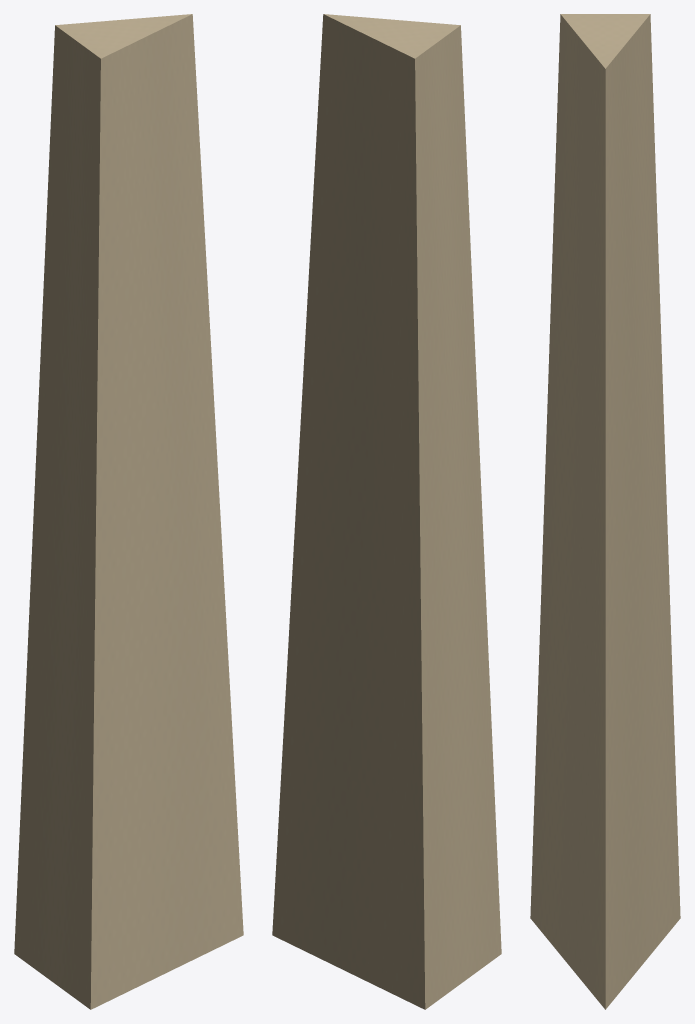
File: atlas100-s041-a05.lod2.glb
The picture shows the model from 3 angles, left to right: view 1: azimuth 30°, elevation 25°; view 2: azimuth 150°, elevation 25°; view 3: azimuth 270°, elevation 25°; orthographic projection.
Visible parts, largest first — view 1: atlas100-s041-a05:part-000; view 2: atlas100-s041-a05:part-000; view 3: atlas100-s041-a05:part-000.
Part boxes in pixels (x1,y1,x2,y2): atlas100-s041-a05:part-000: [14, 14, 243, 1009]; atlas100-s041-a05:part-000: [272, 14, 501, 1009]; atlas100-s041-a05:part-000: [530, 14, 680, 1009].
Bounding box in the file's own units: 0.1638 × 0.7644 × 0.1135.
Materials: 1 (1 with a texture image).
